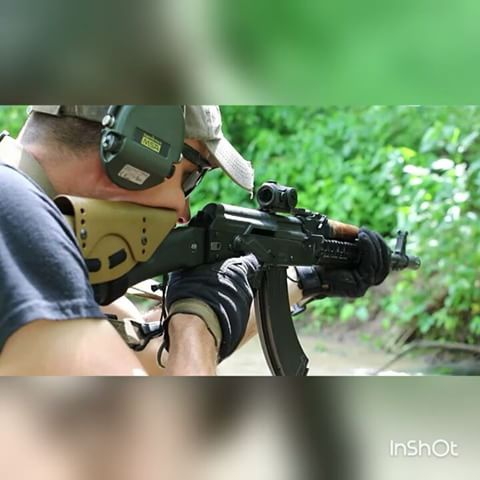ak47: (63, 182, 415, 365)
